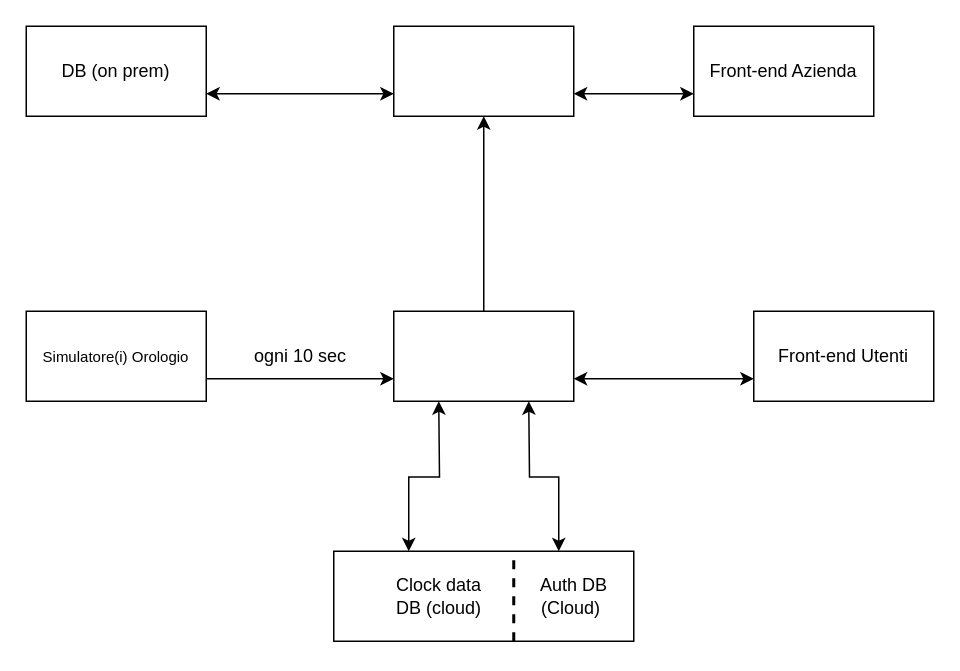
This 960x671 diagram has some shape labels left out. Each missing label, with the box of its shape:
API Cloud: (392, 310, 574, 401)
API on prem: (392, 25, 574, 116)
